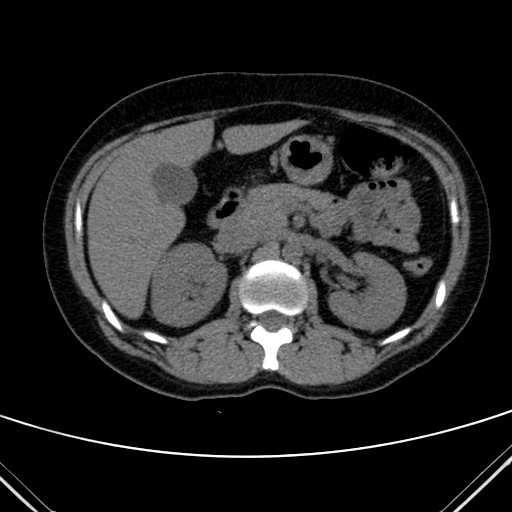vesicula: (150, 160, 201, 210)
